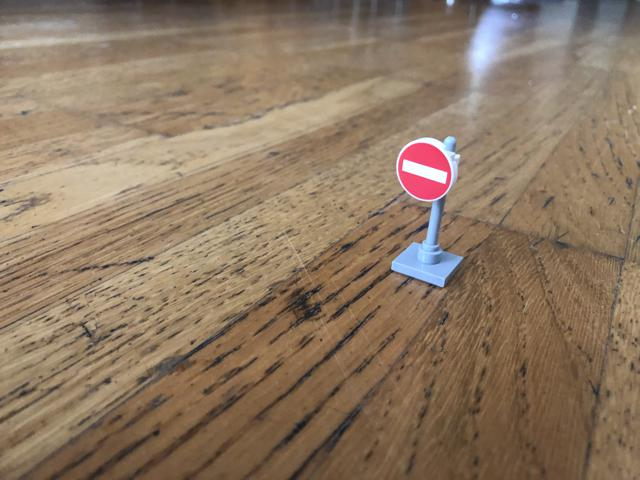verbot der einfahrt: (391, 138, 457, 203)
